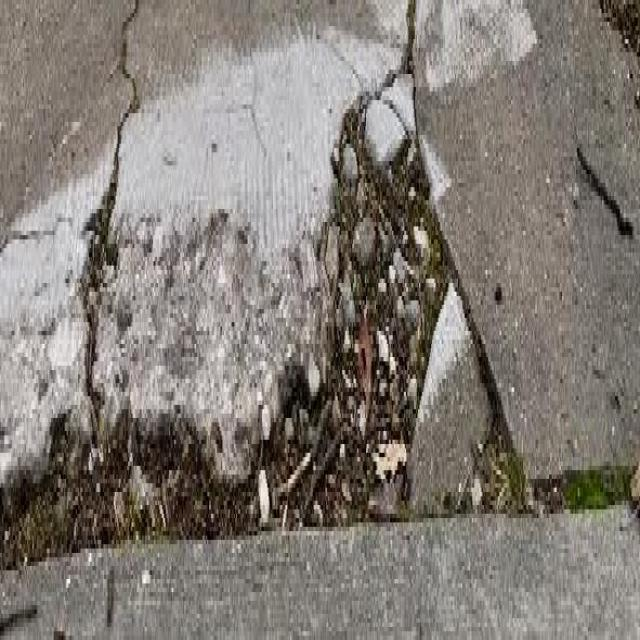hole: (56, 27, 528, 607)
